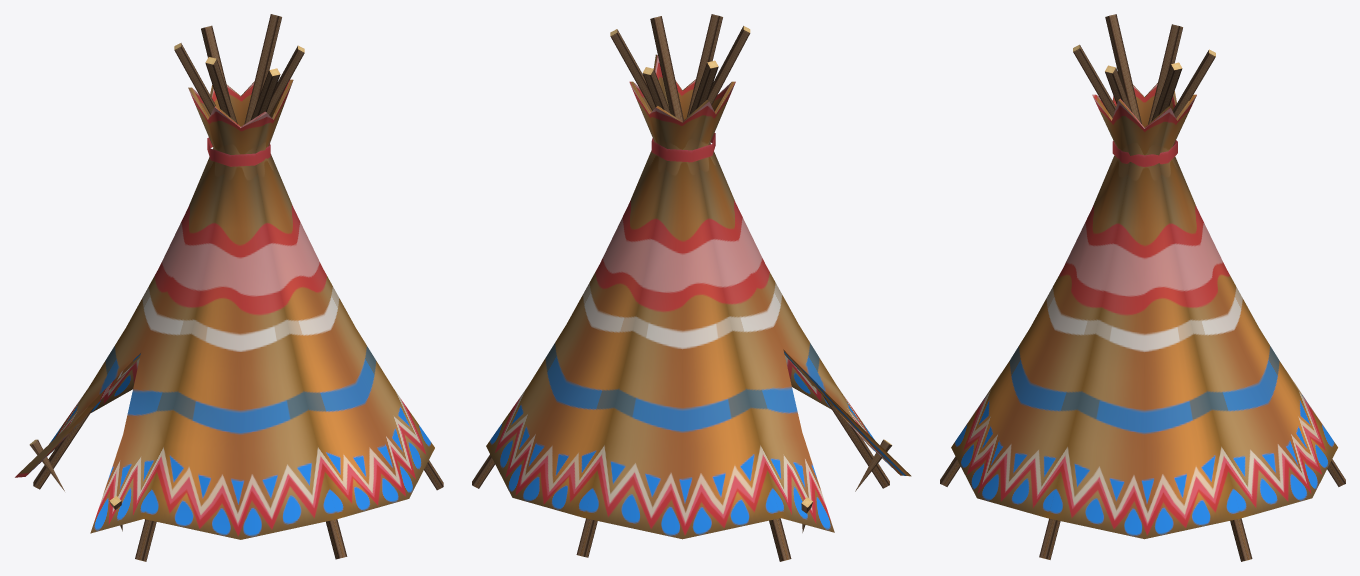
The model's file is Teepee_02.FBX.
3 views of the same model, side by side, from view 1: azimuth 30°, elevation 25°; view 2: azimuth 150°, elevation 25°; view 3: azimuth 270°, elevation 25° (orthographic).
Parts seen in each view (by area): view 1: Teepee_02; view 2: Teepee_02; view 3: Teepee_02.
Boxes of the visible parts, x1,y1,x2,y2 form: Teepee_02: [15, 14, 443, 561]; Teepee_02: [472, 14, 911, 561]; Teepee_02: [940, 14, 1345, 561].
Bounding box in the file's own units: 5.12 × 6.22 × 5.07.
